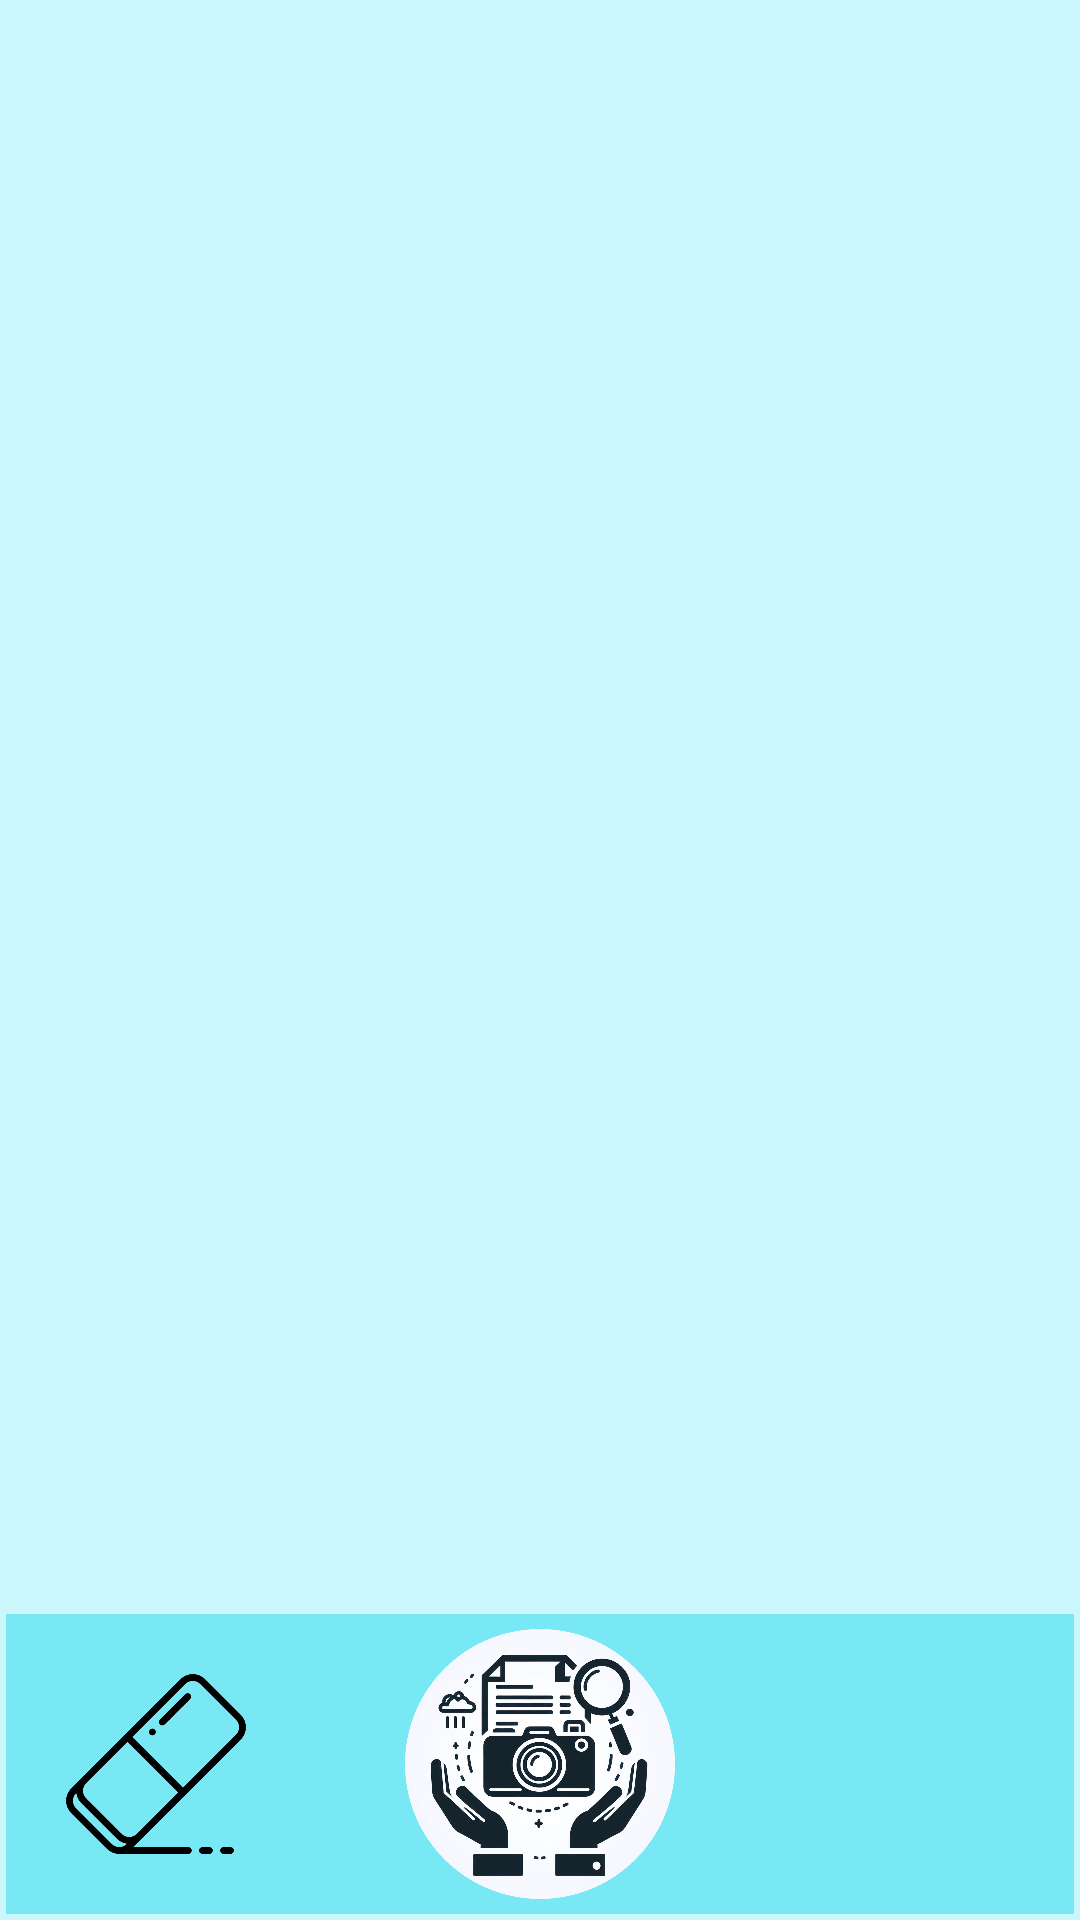

Named icons in this screenshot (1080x1920) and their bounding boxes, (x1, y1, x2, y2):
eraser: (6, 1614, 306, 1914)
